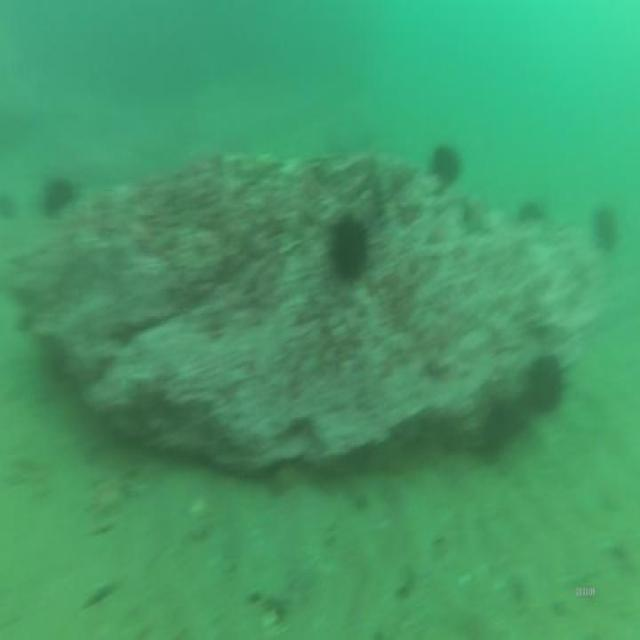echinus: (321, 204, 378, 291), (524, 343, 576, 427), (427, 138, 470, 195), (591, 196, 621, 262), (39, 170, 77, 222)
